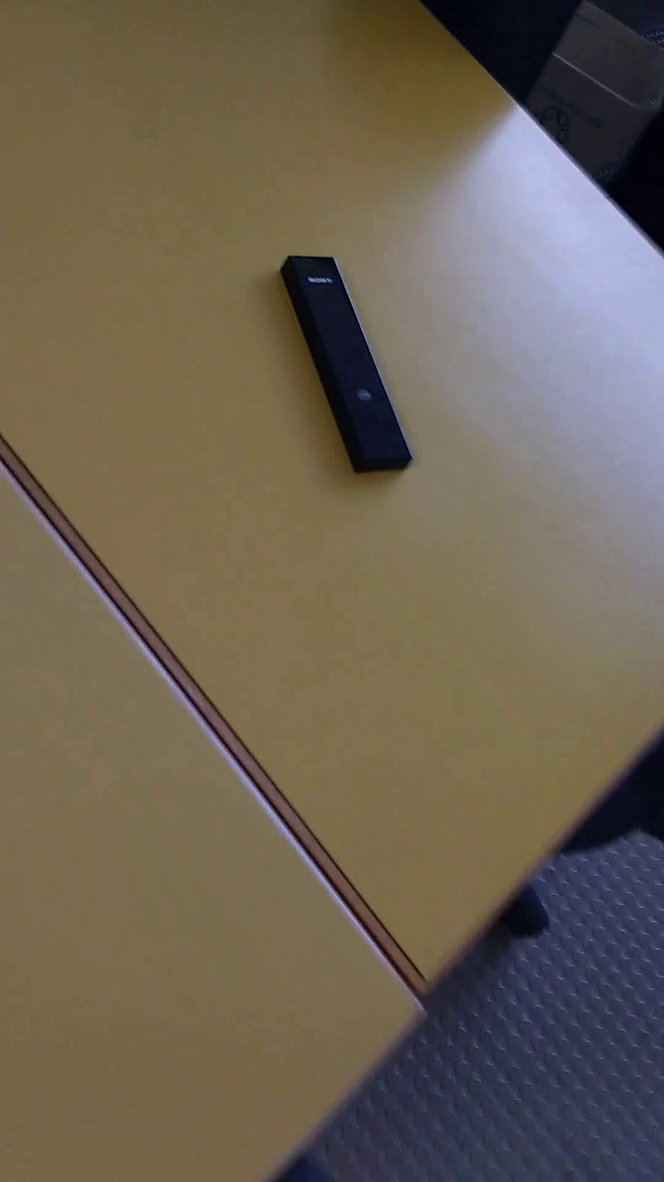remote: (266, 240, 423, 485)
